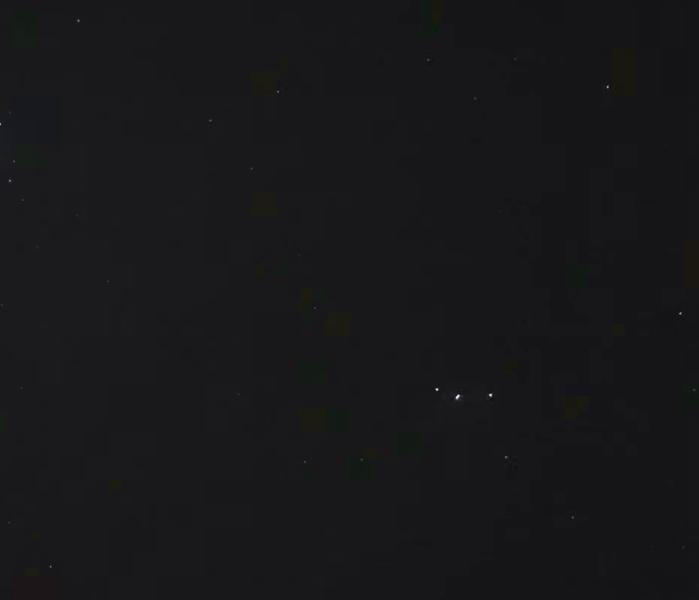Plane: (420, 384, 505, 411)
